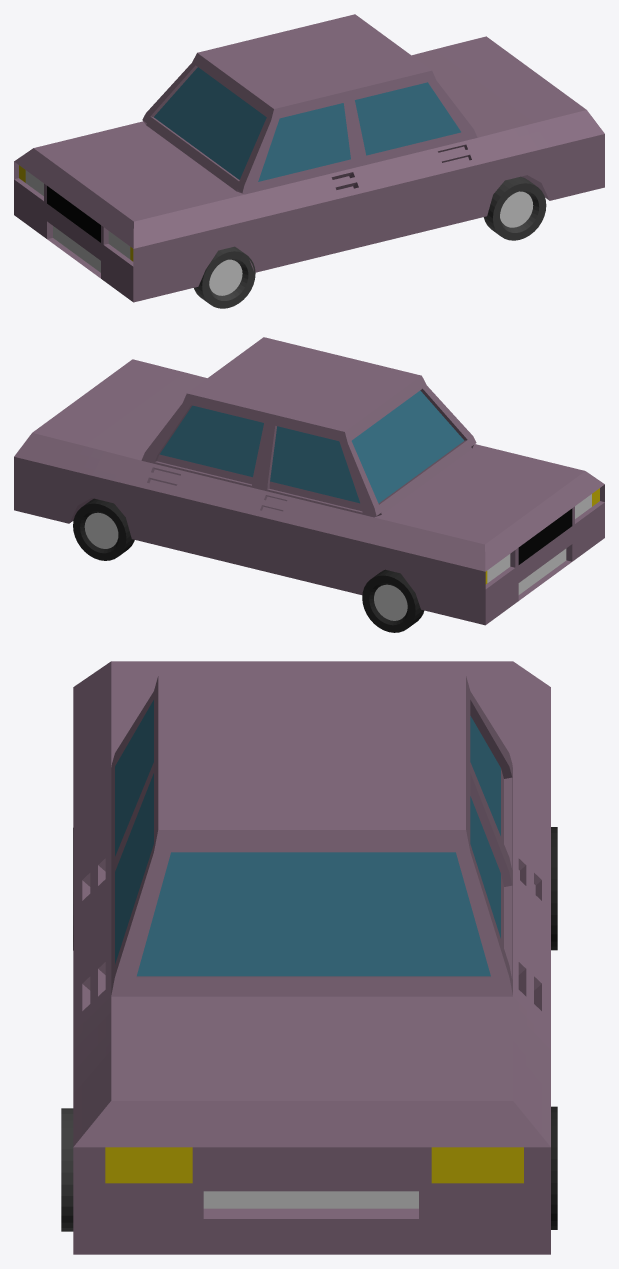
Rendered from Car A.fbx.
3 renders of one model, top to bottom at view 1: azimuth 30°, elevation 25°; view 2: azimuth 150°, elevation 25°; view 3: azimuth 270°, elevation 25°, orthographic. The views are drawn at different scales.
Parts seen in each view (by area): view 1: Cube1, Cylinder.006, Cylinder.008; view 2: Cube1, Cylinder.007, Cylinder.005; view 3: Cube1, Cylinder.006, Cylinder.005, Cylinder.007.
Part boxes in pixels (x1=…): Cube1: x1=14, y1=14, x2=604, y2=302; Cylinder.006: x1=483, y1=176, x2=546, y2=240; Cylinder.008: x1=194, y1=246, x2=255, y2=308; Cube1: x1=14, y1=337, x2=604, y2=625; Cylinder.007: x1=73, y1=498, x2=134, y2=560; Cylinder.005: x1=362, y1=569, x2=424, y2=632; Cube1: x1=73, y1=661, x2=550, y2=1254; Cylinder.006: x1=61, y1=1108, x2=73, y2=1231; Cylinder.005: x1=551, y1=827, x2=557, y2=950; Cylinder.007: x1=551, y1=1106, x2=557, y2=1229.
Size of the model in its own units: 456 by 154 by 208.
